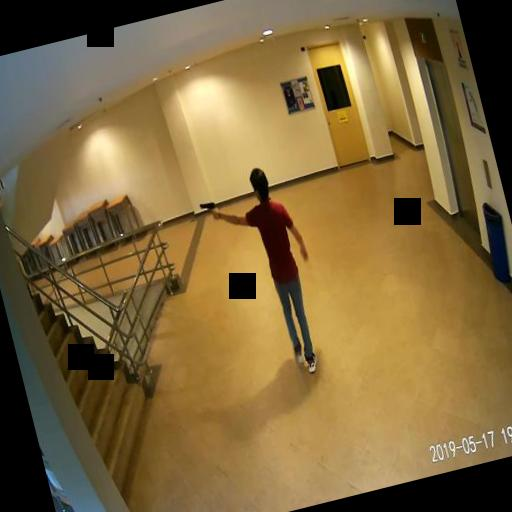Handgun: (198, 199, 218, 220)
